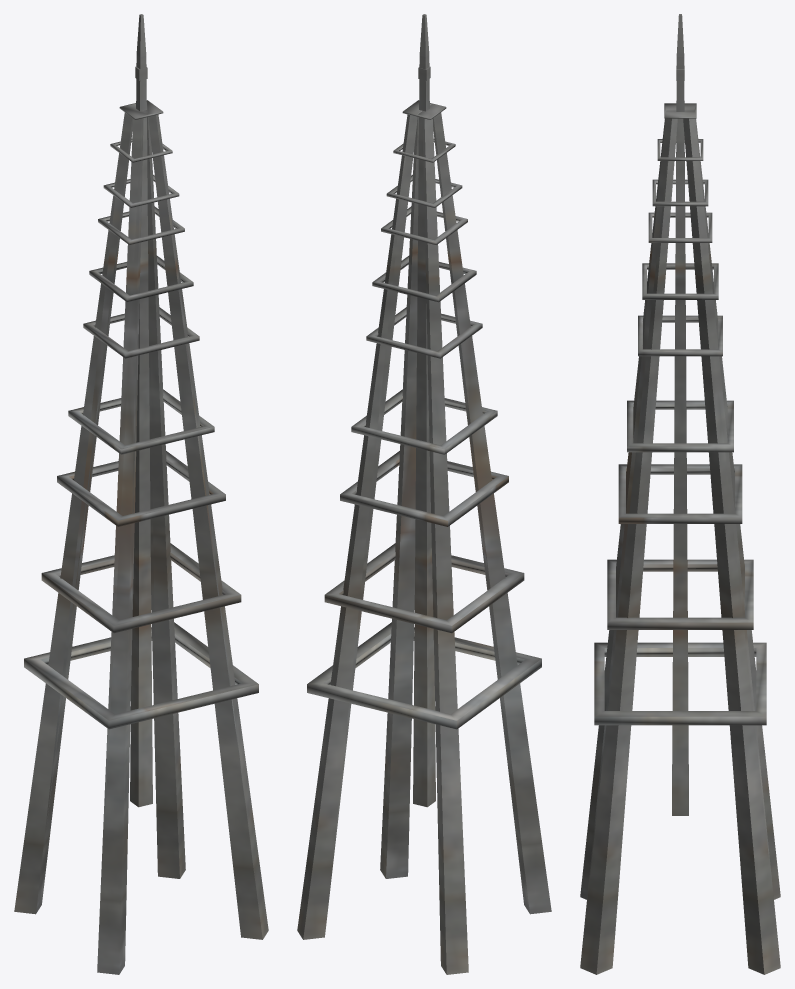
Rendered from antena.dae.
3 views of the same model, side by side, from view 1: azimuth 30°, elevation 25°; view 2: azimuth 150°, elevation 25°; view 3: azimuth 270°, elevation 25° (orthographic).
Visible parts, largest first — view 1: antena; view 2: antena; view 3: antena.
Boxes of the visible parts, left/top/right/bottom form: antena: left=14, top=14, right=268, bottom=974; antena: left=297, top=14, right=551, bottom=974; antena: left=580, top=14, right=780, bottom=974.
Size of the model in its own units: 6.87 by 6.87 by 34.66.
